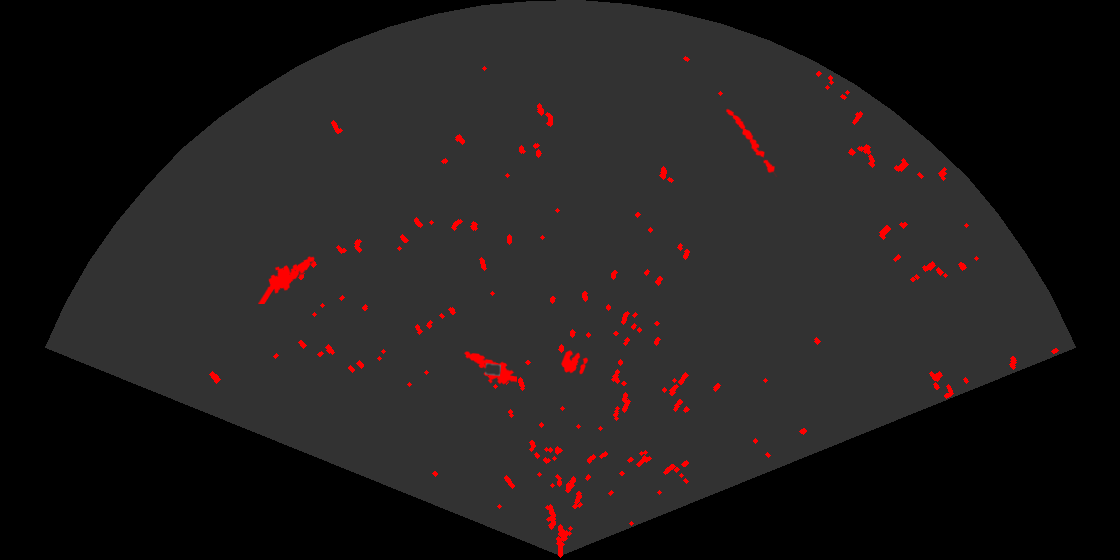ball: (559, 348, 590, 376)
chain: (724, 107, 779, 177)
frogman: (258, 254, 316, 304), (462, 350, 517, 386)
